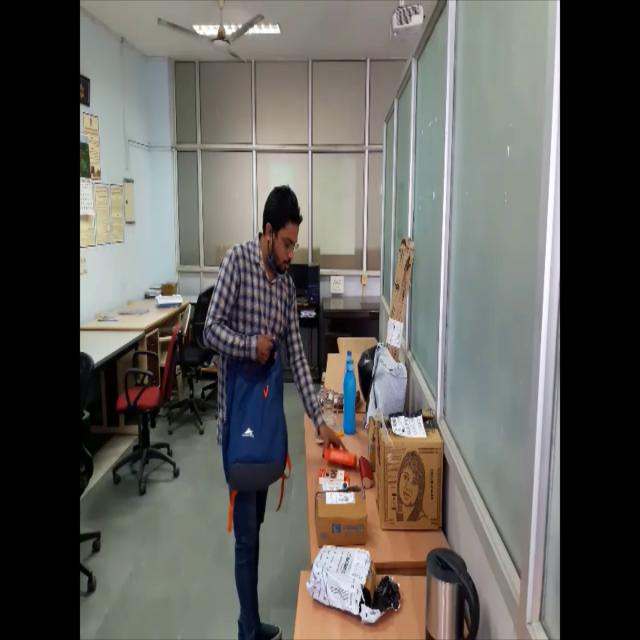shoplifting: (202, 178, 320, 640)
